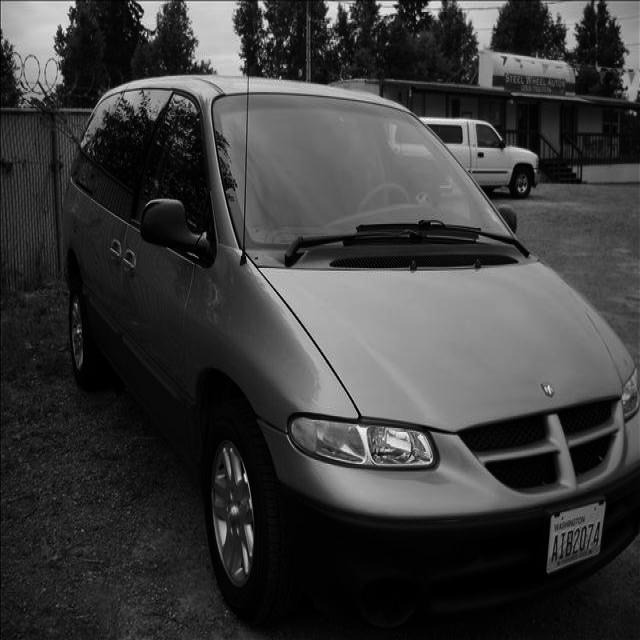car: (61, 72, 639, 629)
plat_license: (544, 497, 606, 575)
